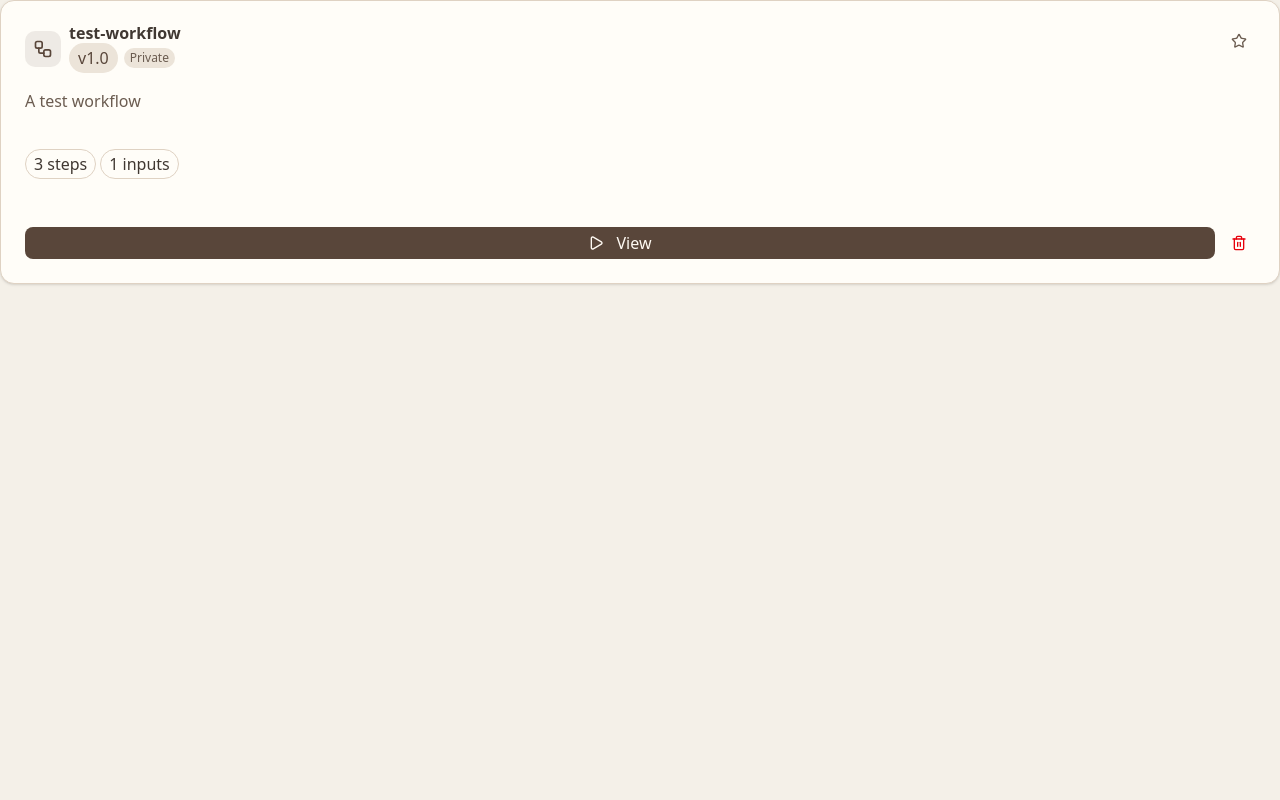
Test: WorkflowCard › clicking delete button opens delete dialog
The width and height of the screenshot is (1280, 800).
Click the button with test id "workflow-delete-button".
click(1239, 243)  # box [1223,227,1255,259]
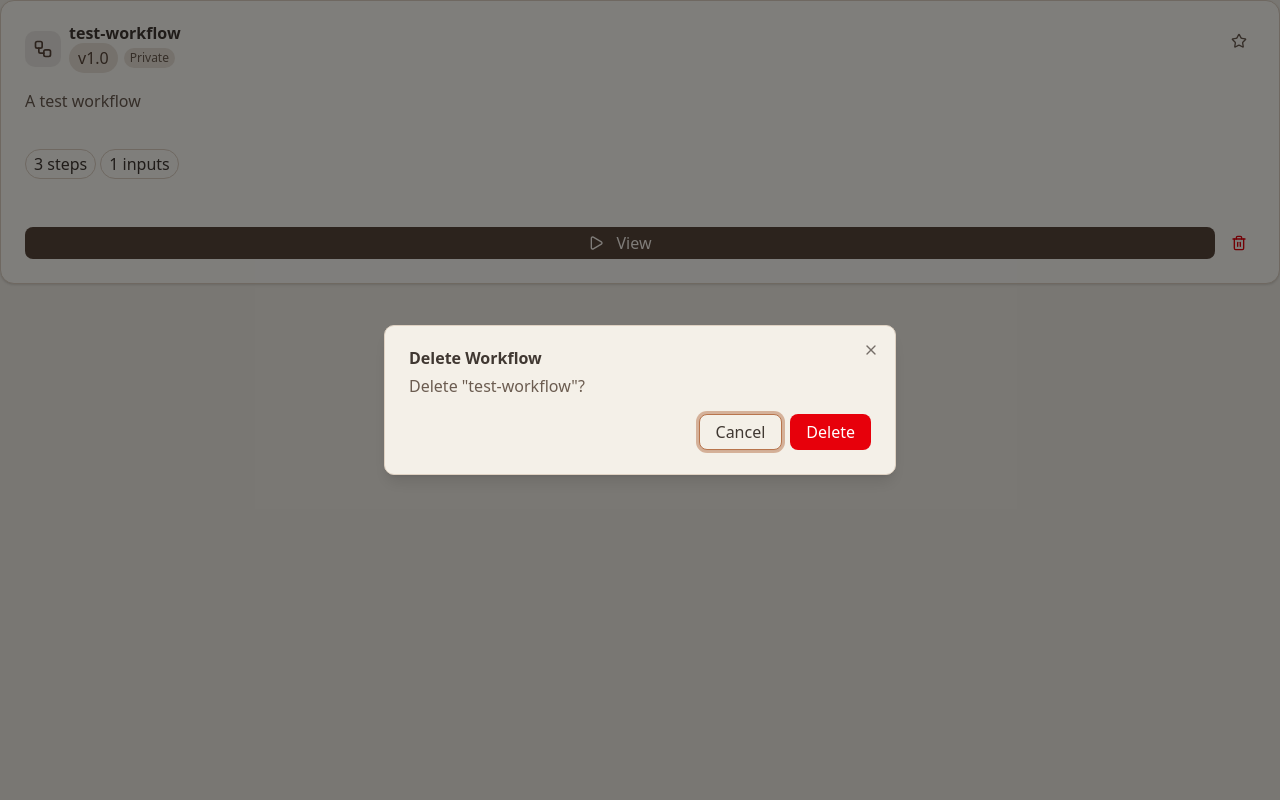
Now the dialog is shown, box [384,325,896,475]
Now the heading "Delete Workflow" is shown, box [409,347,542,369]
